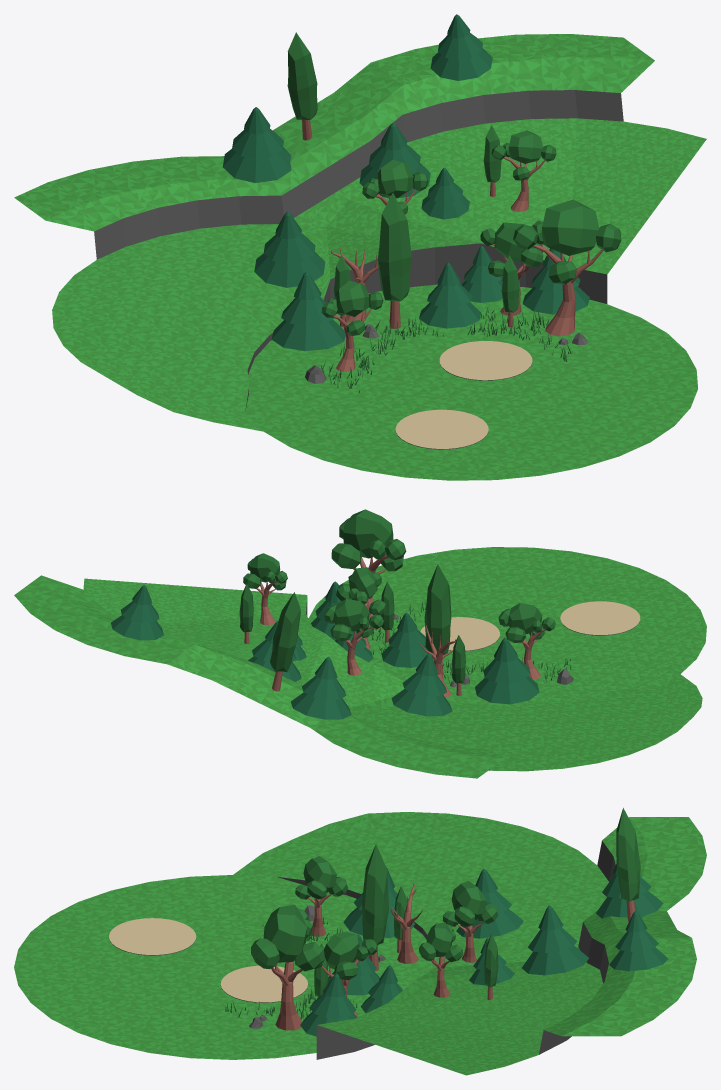
Rendered from FigthZone1.glb.
3 renders of one model, top to bottom at view 1: azimuth 30°, elevation 25°; view 2: azimuth 150°, elevation 25°; view 3: azimuth 270°, elevation 25°, orthographic. The views are drawn at different scales.
Visible parts, largest first — view 1: FightScene, zone.001, zone.002; view 2: FightScene, zone.001, zone.002; view 3: FightScene, zone.001, zone.002.
Part boxes in pixels (bbox=[...]): FightScene: bbox=[14, 14, 706, 480]; zone.001: bbox=[395, 409, 488, 449]; zone.002: bbox=[439, 341, 532, 380]; FightScene: bbox=[14, 509, 706, 778]; zone.001: bbox=[560, 601, 640, 635]; zone.002: bbox=[420, 617, 499, 651]; FightScene: bbox=[14, 808, 706, 1075]; zone.001: bbox=[109, 918, 196, 955]; zone.002: bbox=[220, 965, 308, 1002].
Size of the model in its own units: 38.81 by 11.18 by 37.72.
7 materials, 1 textured.
